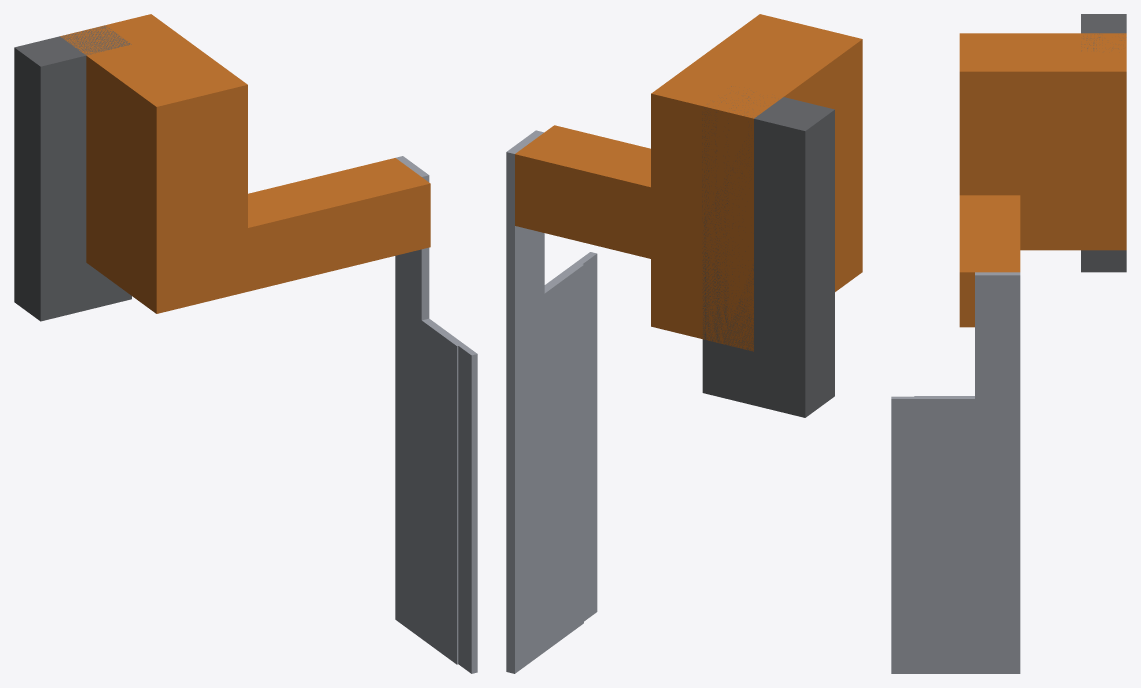
File: finger_lower.obj
3 renders of one model, left to right at view 1: azimuth 30°, elevation 25°; view 2: azimuth 150°, elevation 25°; view 3: azimuth 270°, elevation 25°, orthographic. The views are drawn at different scales.
Size of the model in its own units: 0.0215 by 0.038 by 0.0155.
